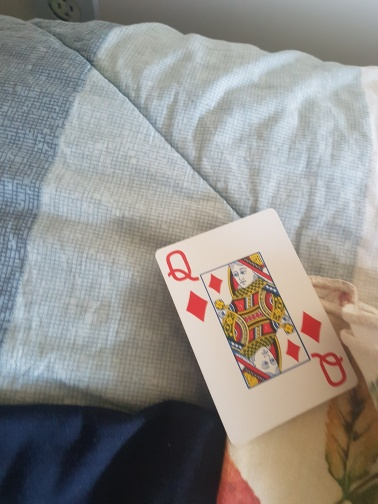queen: (155, 208, 359, 446)
